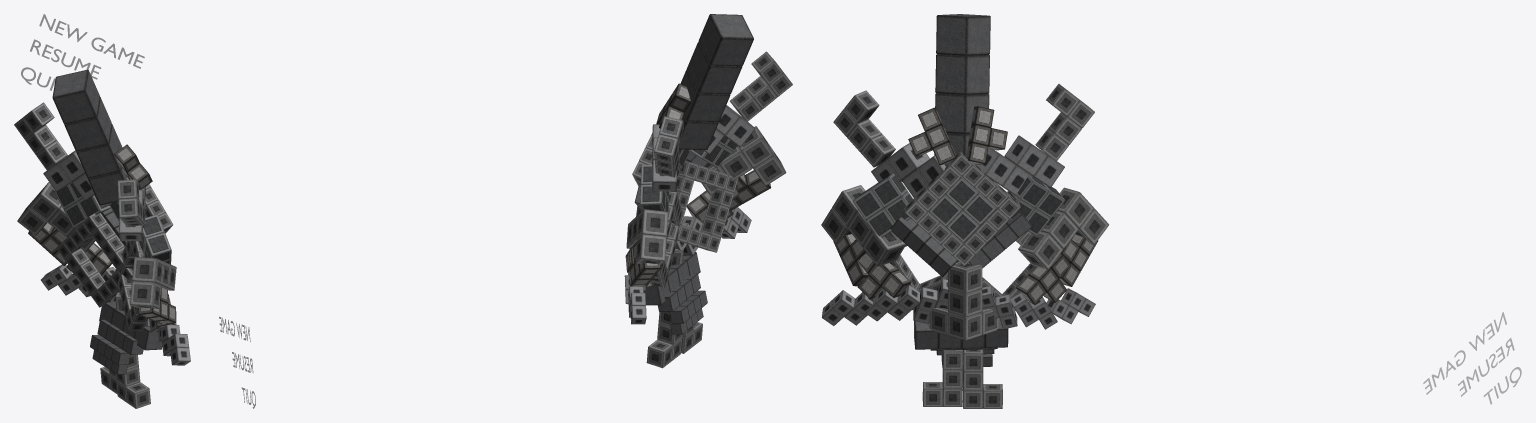
Rendered from end_head.fbx.
The picture shows the model from 3 angles, left to right: view 1: azimuth 30°, elevation 25°; view 2: azimuth 150°, elevation 25°; view 3: azimuth 270°, elevation 25°; orthographic projection. The views are drawn at different scales.
Visible parts, largest first — view 1: colosse_tete, NEW_GAME, RESUME, QUIT; view 2: colosse_tete; view 3: colosse_tete.
Boxes of the visible parts, x1,y1,x2,y2 form: colosse_tete: [14, 69, 190, 408]; NEW_GAME: [39, 14, 144, 68]; RESUME: [30, 39, 100, 79]; QUIT: [21, 67, 55, 90]; colosse_tete: [624, 14, 792, 368]; colosse_tete: [821, 14, 1108, 408].
Size of the model in its own units: 395 by 417 by 717.
